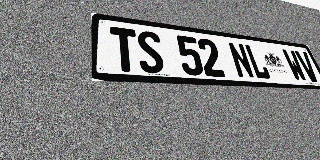2: (196, 38, 225, 77)
5: (176, 35, 205, 76)
L: (244, 44, 272, 80)
N: (227, 42, 256, 79)
S: (136, 30, 166, 74)
T: (110, 26, 140, 72)
V: (294, 51, 320, 82)
W: (281, 49, 308, 82)
